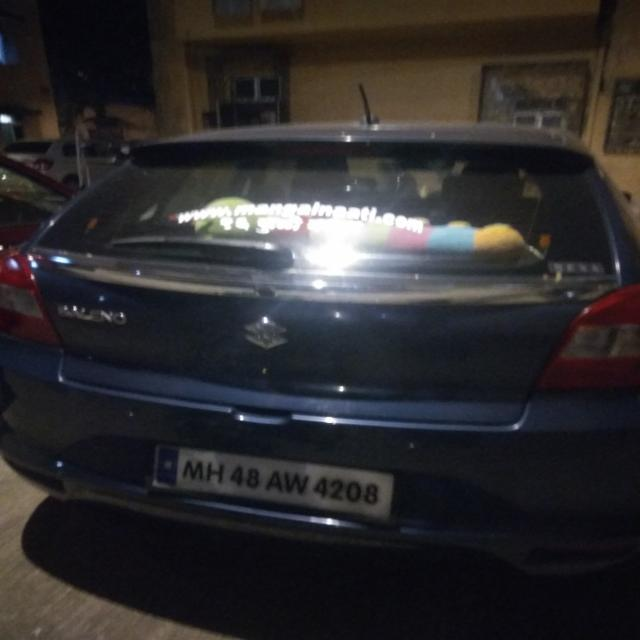Number-Plate: (152, 450, 394, 517)
